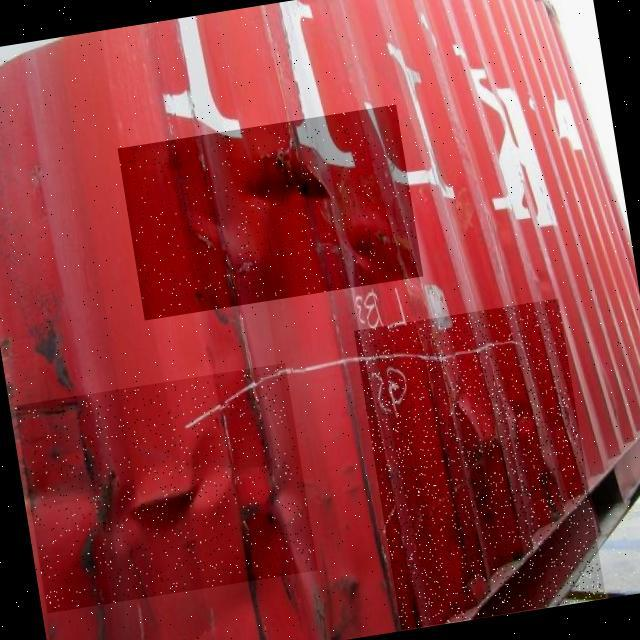dent: (355, 299, 607, 631), (16, 364, 319, 614), (119, 106, 425, 322)
